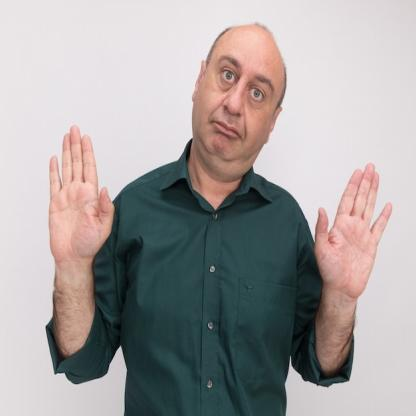stop: (312, 159, 394, 298), (46, 122, 118, 270)
